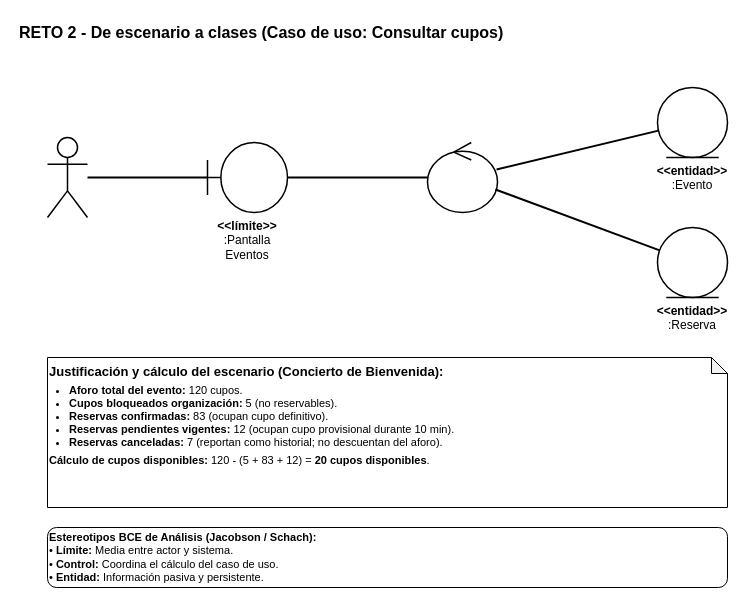
Image size: 745x605. Some labels were removed from this diagram. Here are the shapes that lost their labels. From the top down, the box of each, then its label:
(46, 136, 88, 218): <<actor>> :Estudiante
(426, 141, 498, 213): <<control>> :Calcular Cupos
